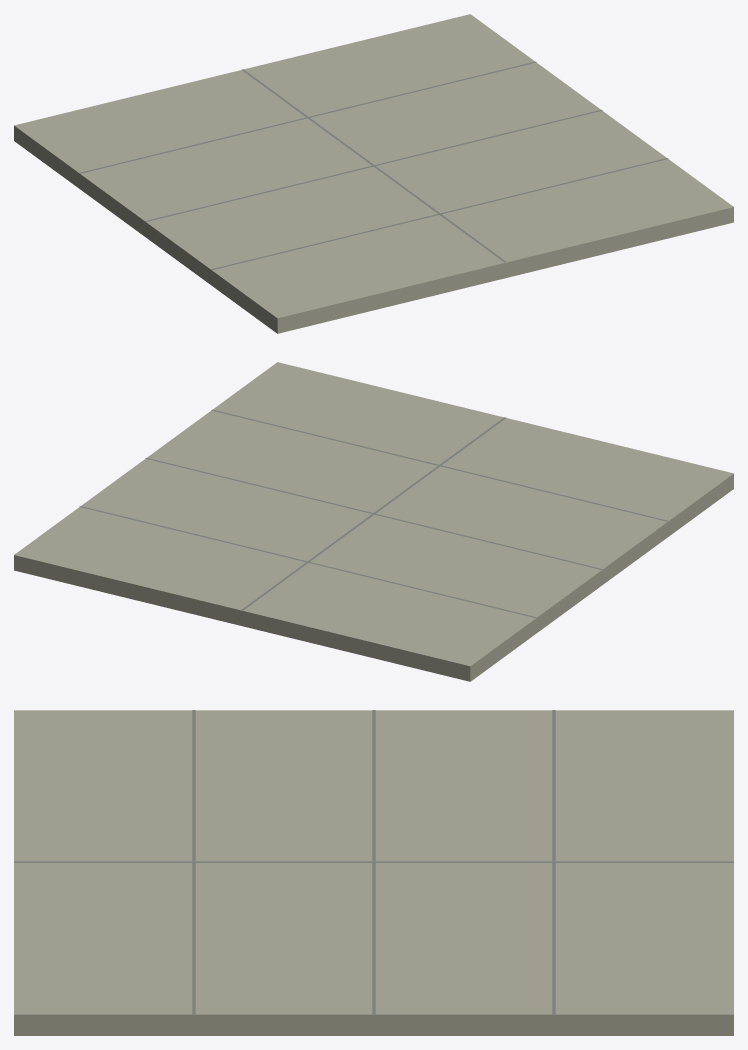
The model's file is SidewalkCorner.obj.
3 views of the same model, one above another, from view 1: azimuth 30°, elevation 25°; view 2: azimuth 150°, elevation 25°; view 3: azimuth 270°, elevation 25° (orthographic). The views are drawn at different scales.
Visible parts, largest first — view 1: SidewalkCorner; view 2: SidewalkCorner; view 3: SidewalkCorner.
Boxes of the visible parts, x1=… form: SidewalkCorner: x1=14, y1=14, x2=733, y2=333; SidewalkCorner: x1=14, y1=362, x2=733, y2=681; SidewalkCorner: x1=14, y1=710, x2=733, y2=1035.
Size of the model in its own units: 4 by 0.133 by 4.
